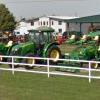Tractor: (10, 17, 99, 67)
